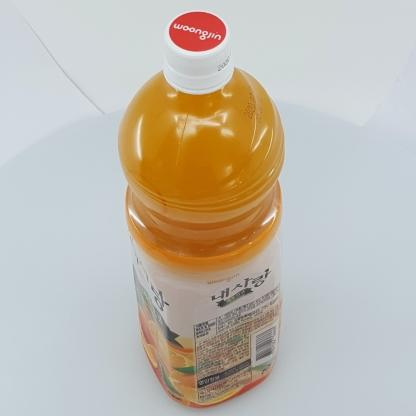----------1-5L: (118, 10, 285, 409)
